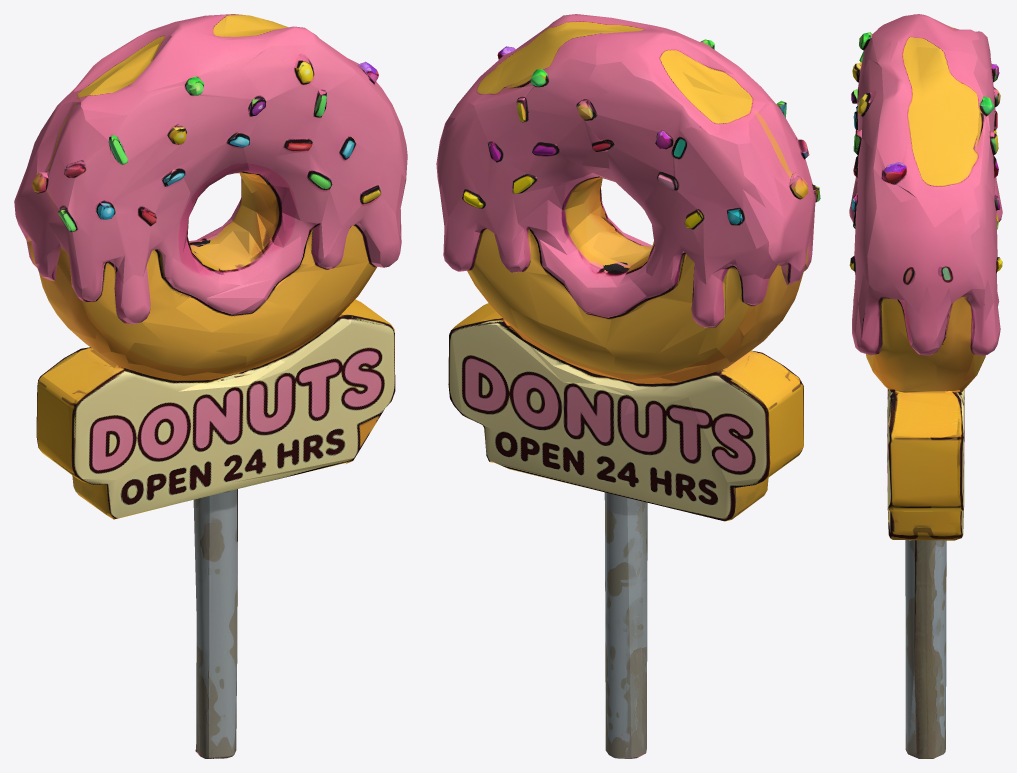
The model's file is prop_donut.glb.
The picture shows the model from 3 angles, left to right: view 1: azimuth 30°, elevation 25°; view 2: azimuth 150°, elevation 25°; view 3: azimuth 270°, elevation 25°; orthographic projection. The views are drawn at different scales.
Size of the model in its own units: 0.9802 by 1.9 by 0.3682.
1 material, 1 textured.
